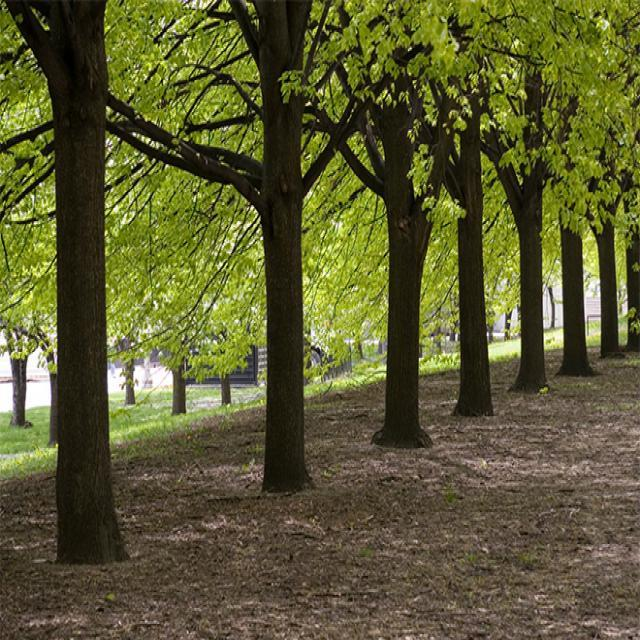Tree: (21, 1, 138, 557), (230, 1, 328, 495), (366, 5, 449, 462), (446, 3, 504, 412), (547, 1, 596, 388), (513, 3, 555, 391), (599, 23, 621, 364), (630, 17, 640, 354)
